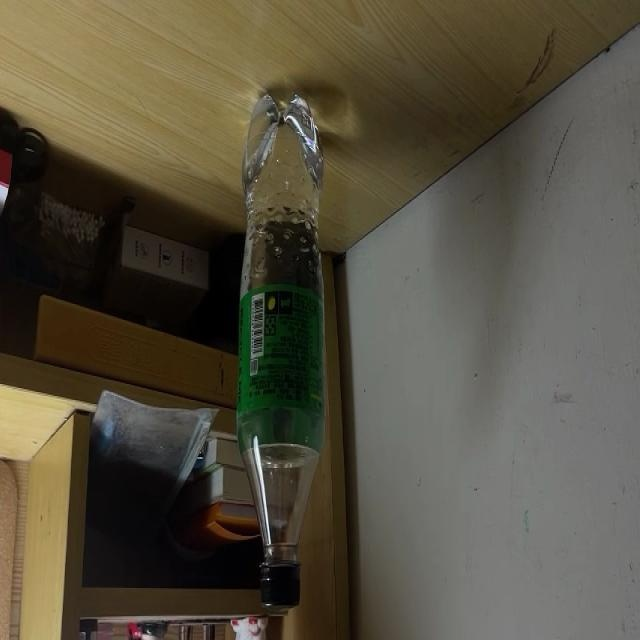Sprite: (237, 93, 328, 607)
